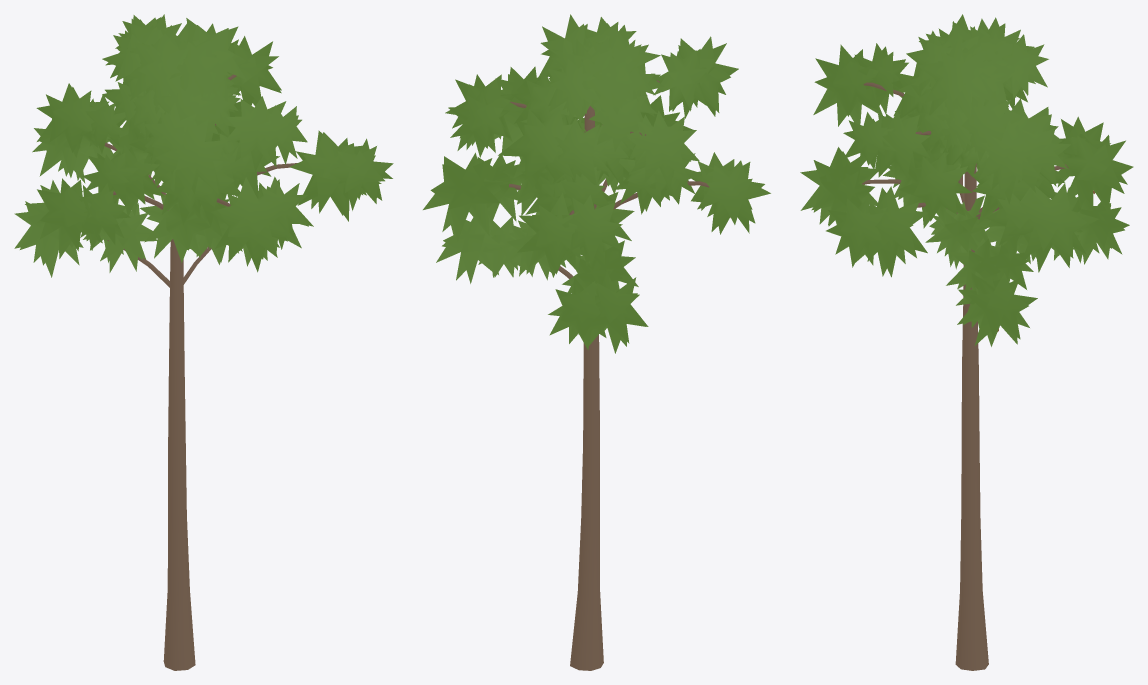
File: Blender_LoblollyPine_1.glb
3 renders of one model, left to right at view 1: azimuth 30°, elevation 25°; view 2: azimuth 150°, elevation 25°; view 3: azimuth 270°, elevation 25°, orthographic.
Parts seen in each view (by area): view 1: Blender_LoblollyPine_1; view 2: Blender_LoblollyPine_1; view 3: Blender_LoblollyPine_1.
Boxes of the visible parts, box(x1,y1,x2,y2) form: Blender_LoblollyPine_1: box(14, 14, 393, 670); Blender_LoblollyPine_1: box(423, 14, 770, 670); Blender_LoblollyPine_1: box(800, 14, 1133, 670).
Bounding box in the file's own units: 14.51 × 27.93 × 13.4.
